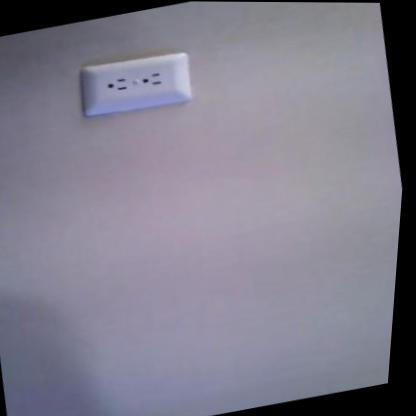OUTLET: (81, 51, 195, 115)
